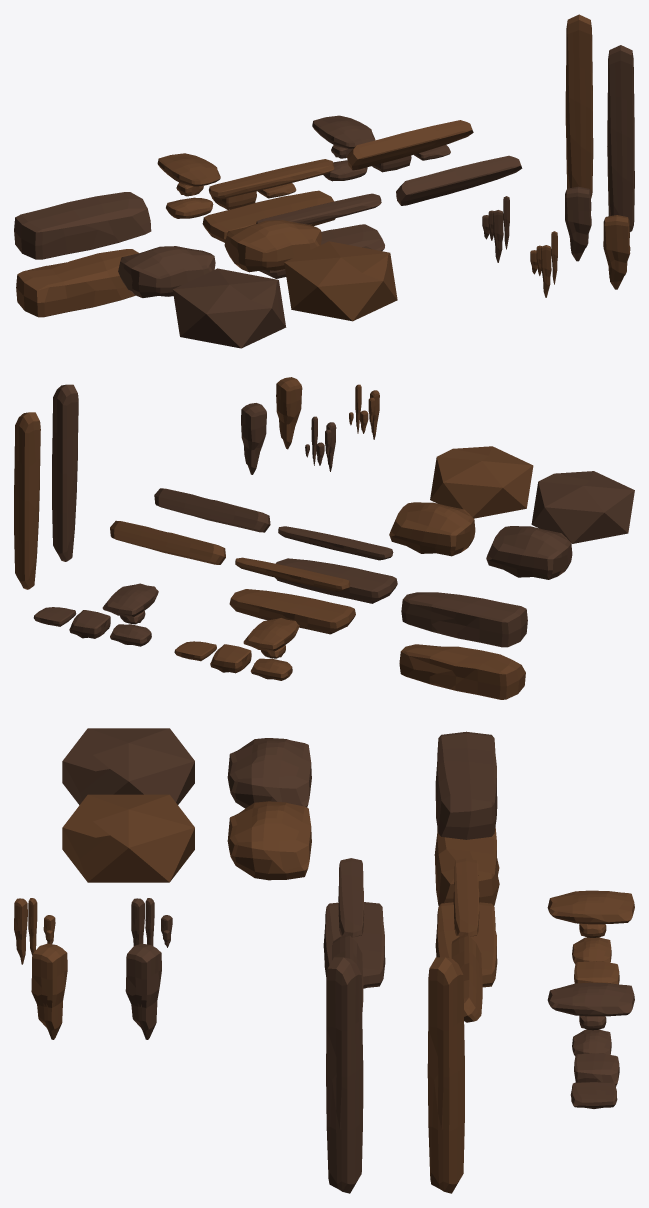
Rendered from Cave And Rocks 3D Game.fbx.
The picture shows the model from 3 angles, top to bottom: view 1: azimuth 30°, elevation 25°; view 2: azimuth 150°, elevation 25°; view 3: azimuth 270°, elevation 25°; orthographic projection. The views are drawn at different scales.
Parts seen in each view (by area): view 1: Icosphere, Icosphere.001, Cube, Cube.001, Cube.016, Cube.011, Cube.010, Cube.012, Cube.006, Cube.013, Cube.007, Cube.034 (+9 smaller); view 2: Icosphere.001, Icosphere, Cube, Cube.001, Cube.011, Cube.016, Cube.010, Cube.012, Cube.007, Cube.015, Cube.013, Cube.006 (+12 smaller); view 3: Icosphere, Cube.016, Cube.011, Icosphere.001, Cube, Cube.010, Cube.012, Cube.001, Cube.015, Cube.022, Cube.023, Cube.017 (+12 smaller).
Boxes of the visible parts, <box> form: Icosphere: <box>284,241,397,321</box>; Icosphere.001: <box>172,268,286,348</box>; Cube: <box>14,192,151,259</box>; Cube.001: <box>16,249,138,317</box>; Cube.016: <box>607,45,634,231</box>; Cube.011: <box>565,14,593,198</box>; Cube.010: <box>224,220,321,272</box>; Cube.012: <box>118,246,215,297</box>; Cube.006: <box>347,120,473,170</box>; Cube.013: <box>396,155,522,205</box>; Cube.007: <box>202,190,335,242</box>; Cube.034: <box>209,159,334,198</box>; Icosphere.001: <box>531,471,634,543</box>; Icosphere: <box>430,446,533,518</box>; Cube: <box>401,592,527,647</box>; Cube.001: <box>399,644,525,699</box>; Cube.011: <box>14,412,40,589</box>; Cube.016: <box>52,384,78,561</box>; Cube.010: <box>389,502,475,556</box>; Cube.012: <box>486,526,572,579</box>; Cube.007: <box>229,589,355,634</box>; Cube.015: <box>275,558,397,603</box>; Cube.013: <box>154,488,270,532</box>; Cube.006: <box>110,520,225,564</box>; Icosphere: <box>62,794,194,882</box>; Cube.016: <box>326,957,363,1193</box>; Cube.011: <box>427,957,464,1193</box>; Icosphere.001: <box>62,728,194,804</box>; Cube: <box>435,731,497,839</box>; Cube.010: <box>227,801,311,880</box>; Cube.012: <box>227,738,311,808</box>; Cube.001: <box>434,827,499,905</box>; Cube.015: <box>323,902,385,988</box>; Cube.022: <box>31,943,67,1039</box>; Cube.023: <box>125,943,161,1039</box>; Cube.017: <box>547,982,634,1016</box>.
Size of the model in its own units: 1020 by 333 by 796.
